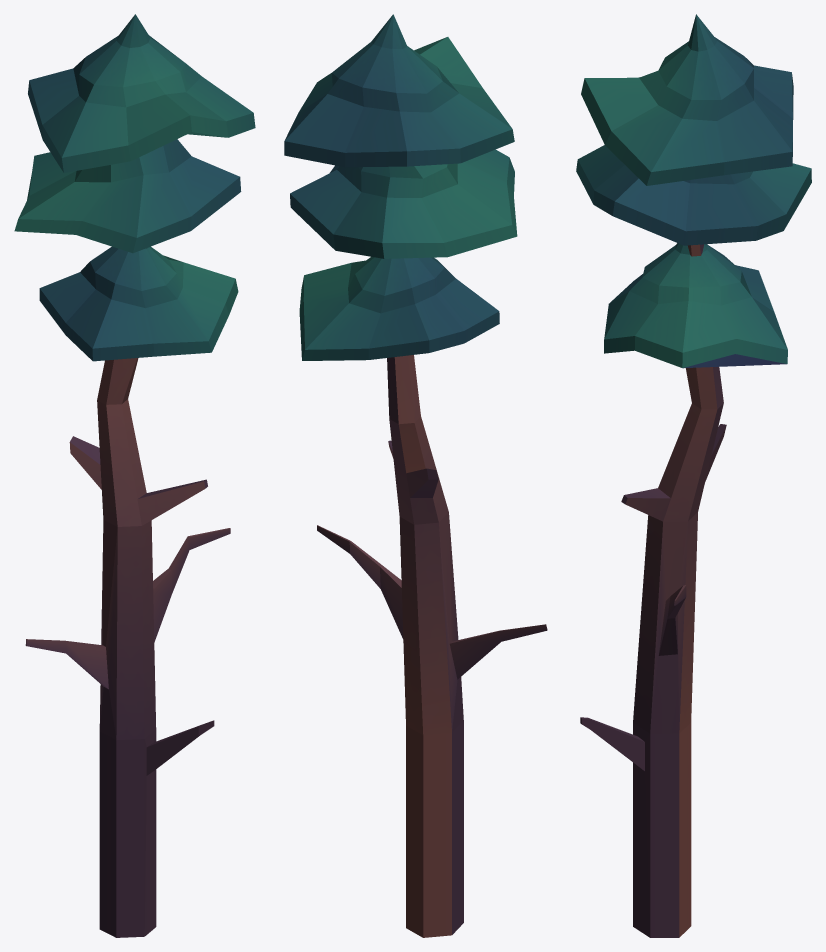
The model's file is PineTree01.fbx.
3 views of the same model, side by side, from view 1: azimuth 30°, elevation 25°; view 2: azimuth 150°, elevation 25°; view 3: azimuth 270°, elevation 25° (orthographic). The views are drawn at different scales.
Visible parts, largest first — view 1: TolTreeTrunk1; view 2: TolTreeTrunk1; view 3: TolTreeTrunk1.
Part boxes in pixels (x1,y1,x2,y2): TolTreeTrunk1: [14, 14, 255, 937]; TolTreeTrunk1: [284, 14, 547, 937]; TolTreeTrunk1: [576, 14, 811, 937].
Bounding box in the file's own units: 154 × 584 × 135.
